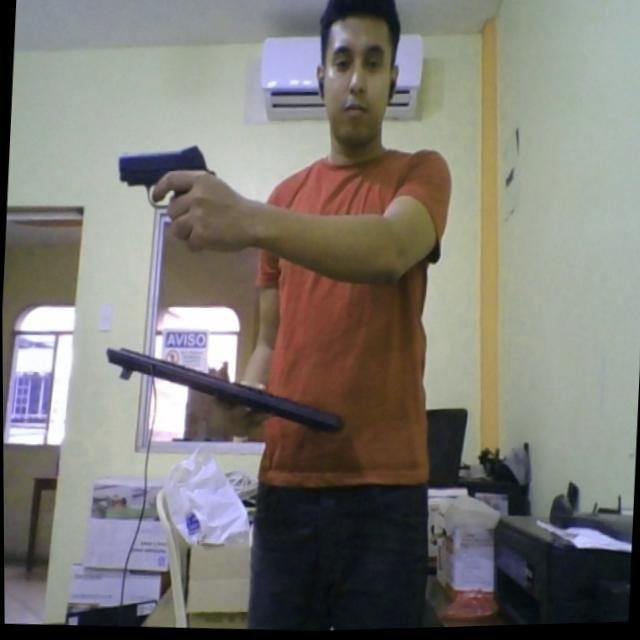weapon: (111, 140, 218, 213)
